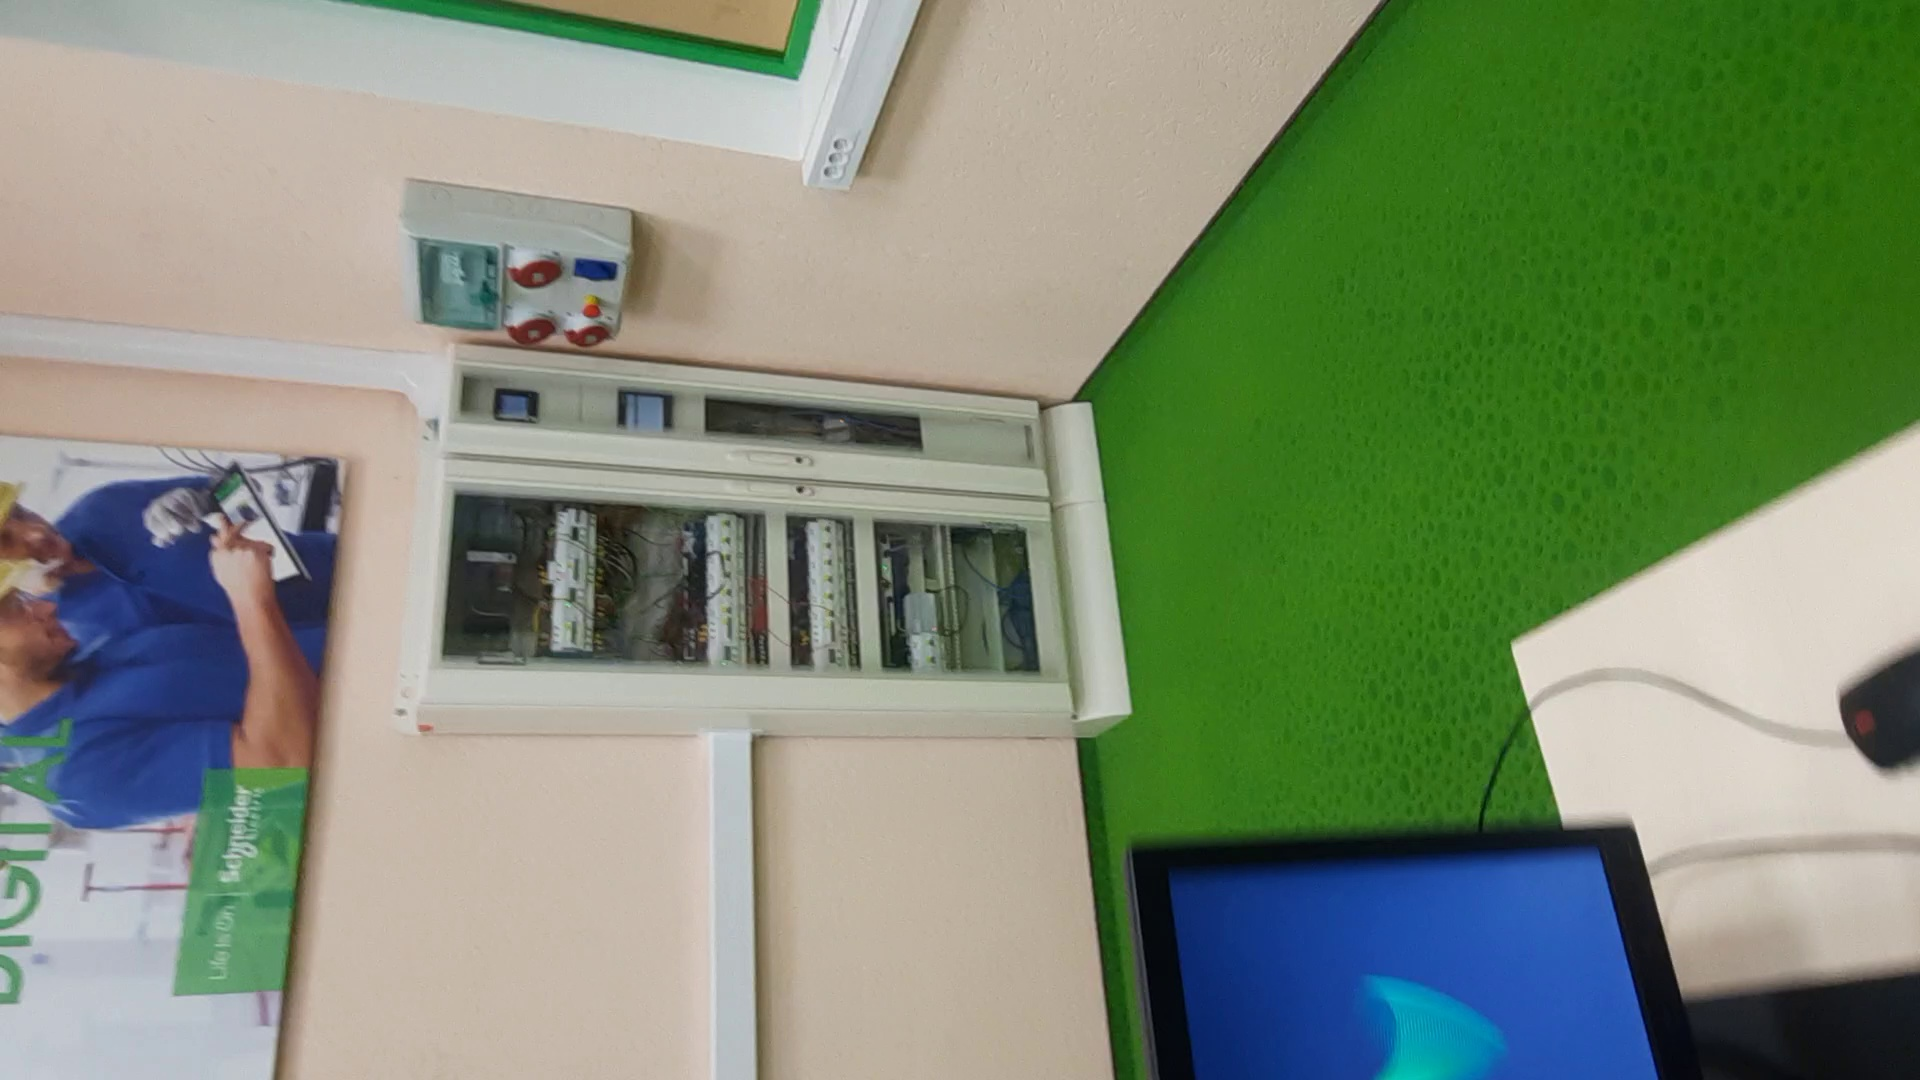stand1: (414, 342, 1129, 733)
